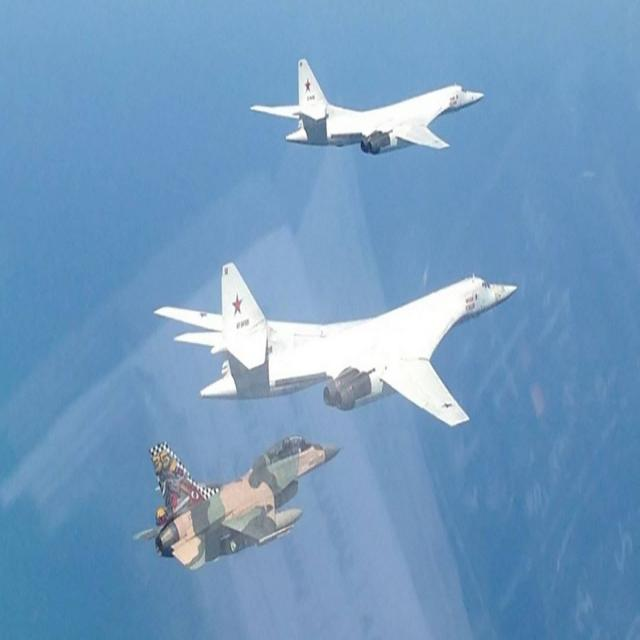Tu160: (147, 216, 549, 449), (232, 46, 503, 195), (103, 432, 354, 587)
